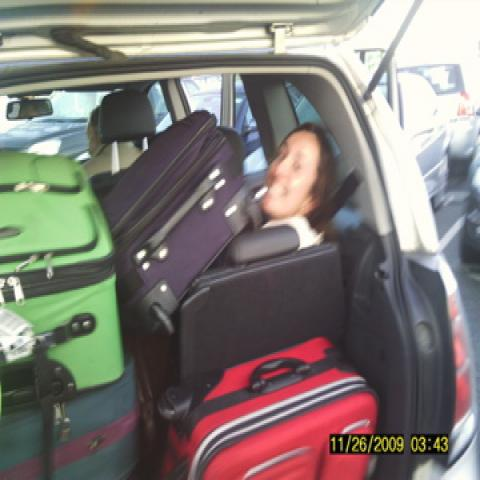car: (0, 0, 479, 478), (394, 58, 480, 166), (397, 67, 451, 211), (460, 194, 479, 277)
